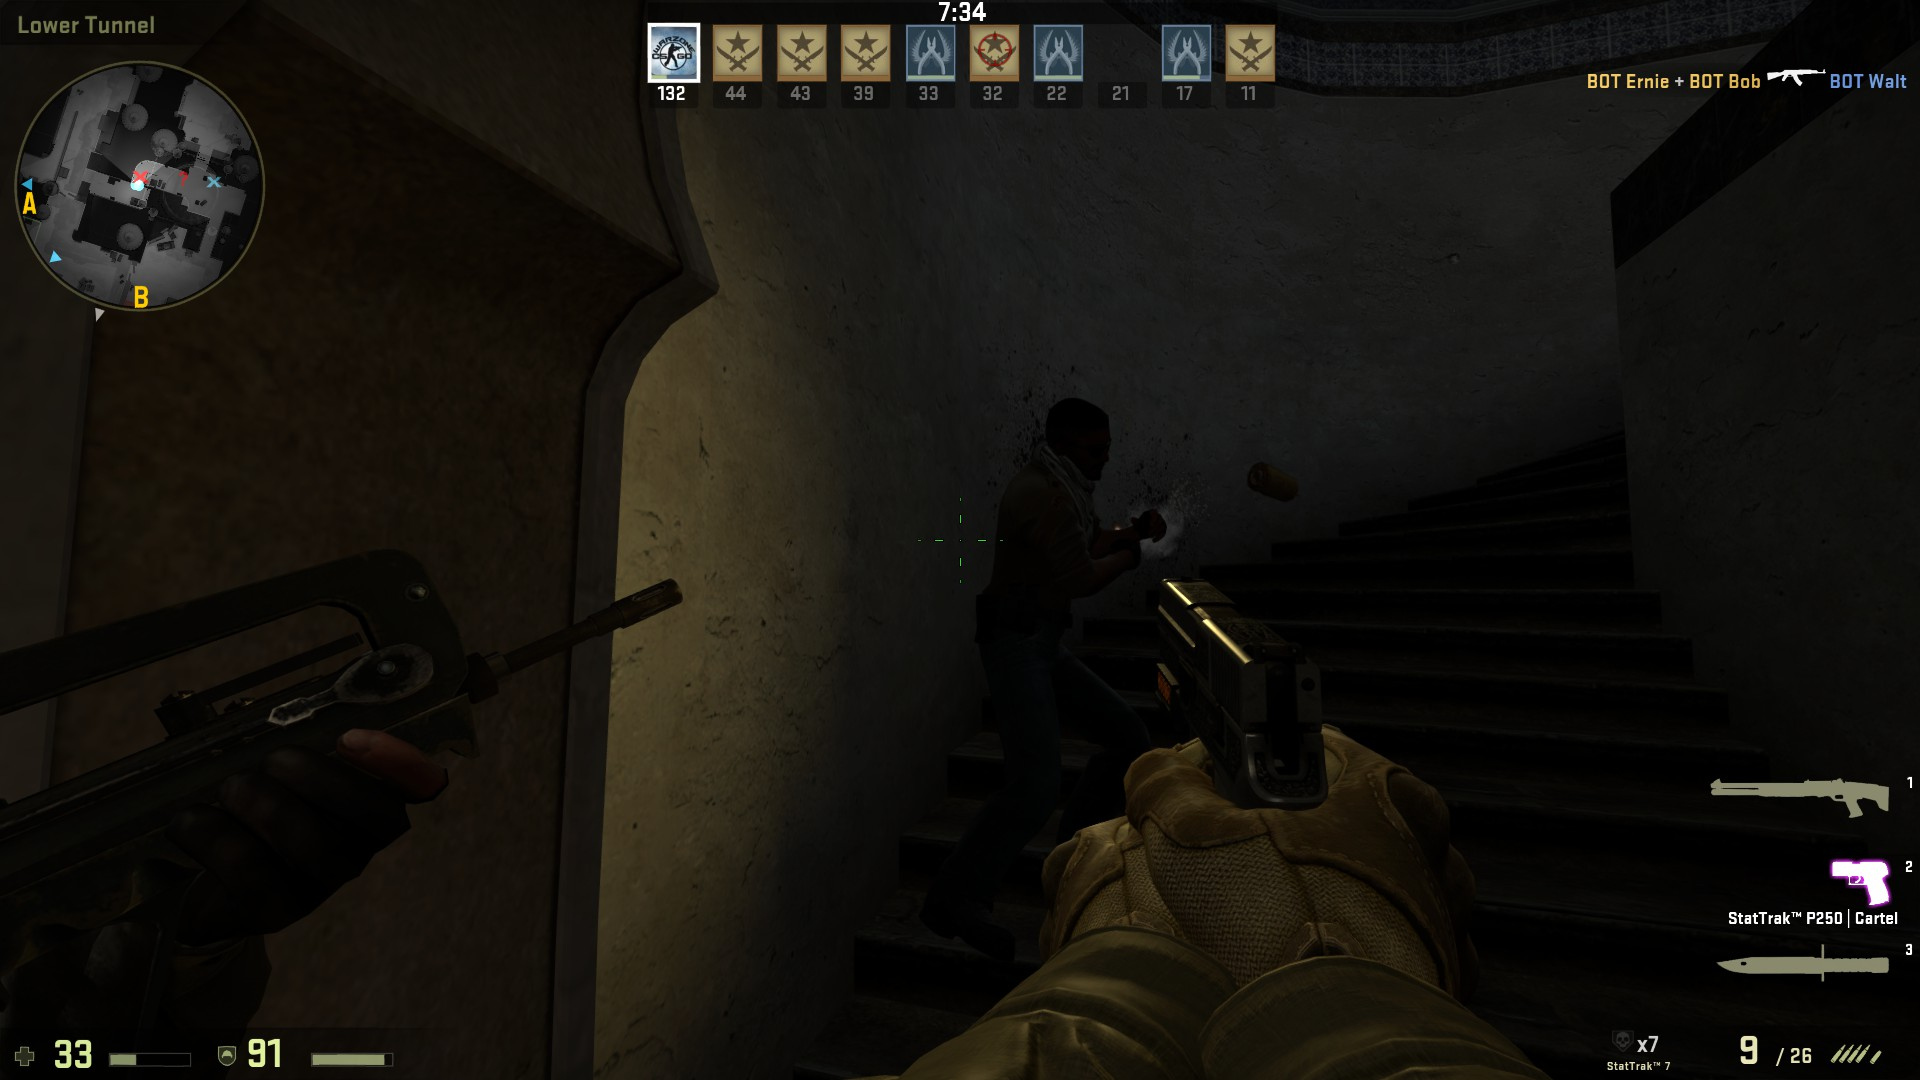t: (973, 390, 1130, 938)
th: (1025, 393, 1114, 516)
